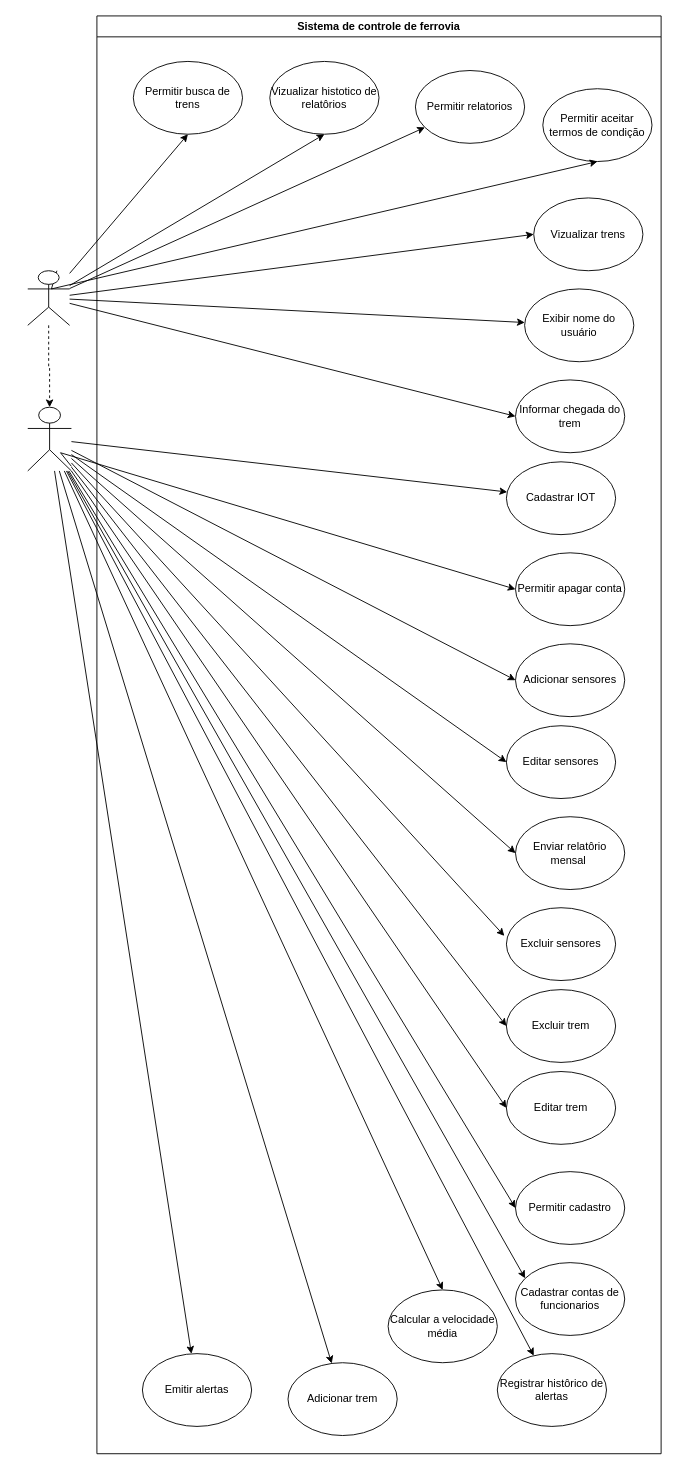
Some shapes in this 677 by 1470 pixel diagram are drawn without their labels. Here are the shapes that lost their labels. From the top down, the centre of each, then its label:
At point 48,297: "Funcionario".
At point 49,438: "Administrador".
